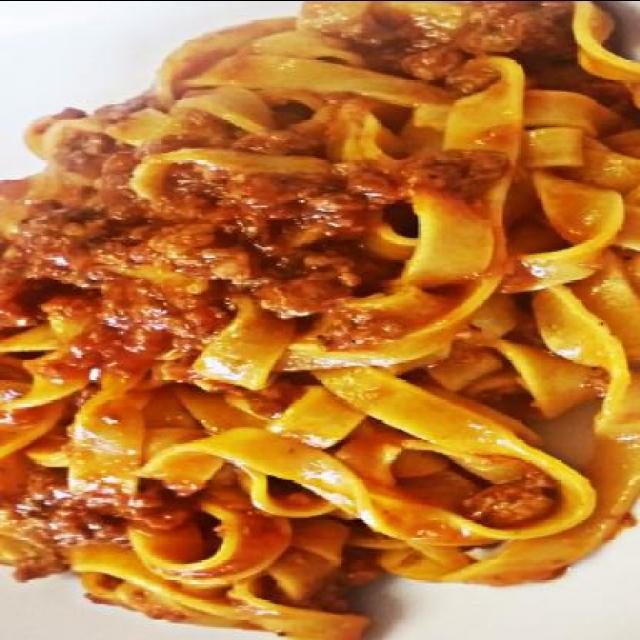Pasta al ragu: (9, 8, 589, 606)
